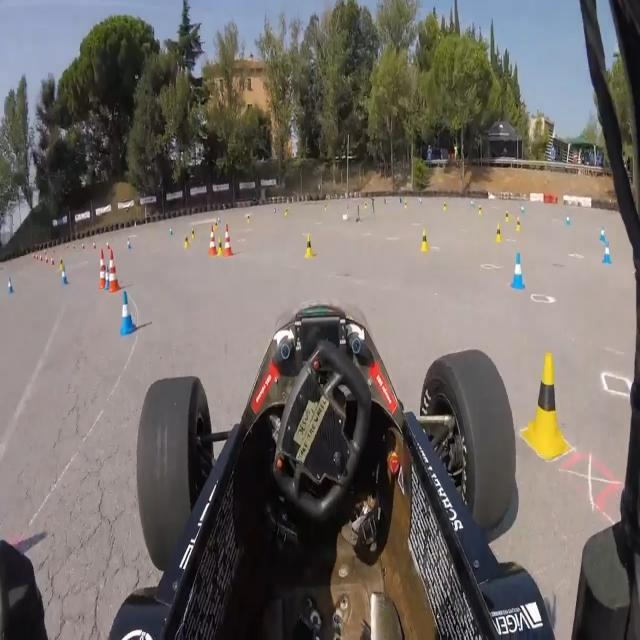blue_cone: (121, 291, 137, 336), (510, 253, 525, 289), (104, 264, 112, 290), (61, 265, 69, 285), (604, 242, 611, 262)
large_orange_cone: (107, 247, 121, 293), (208, 224, 218, 256), (223, 225, 233, 257), (100, 250, 108, 289)
yellow_cone: (520, 352, 571, 458), (304, 234, 315, 260), (420, 229, 429, 253), (216, 236, 224, 257)
